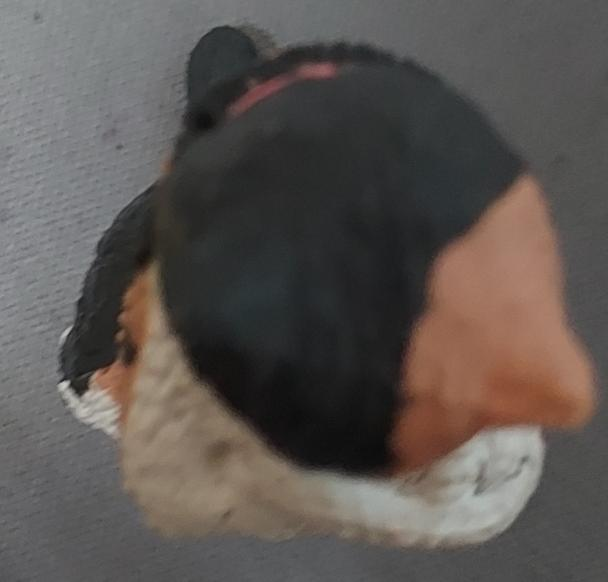cat: (1, 0, 608, 582)
